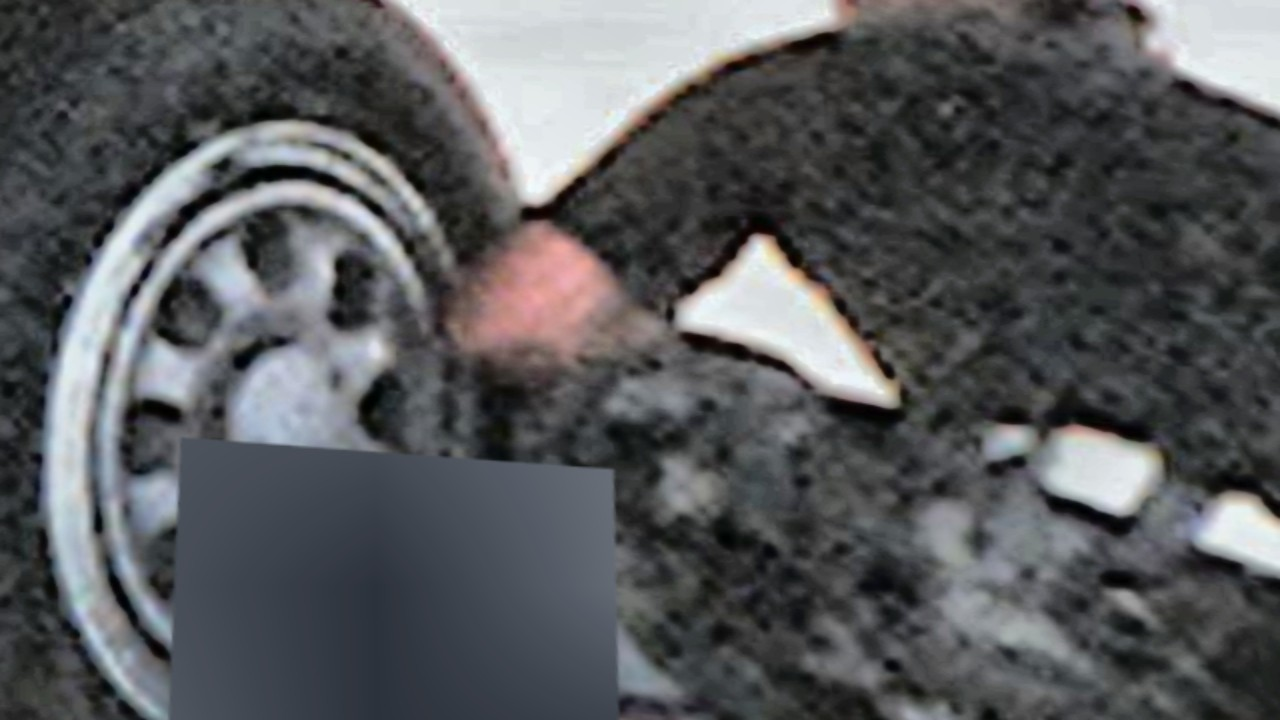wheel: (0, 0, 711, 720)
